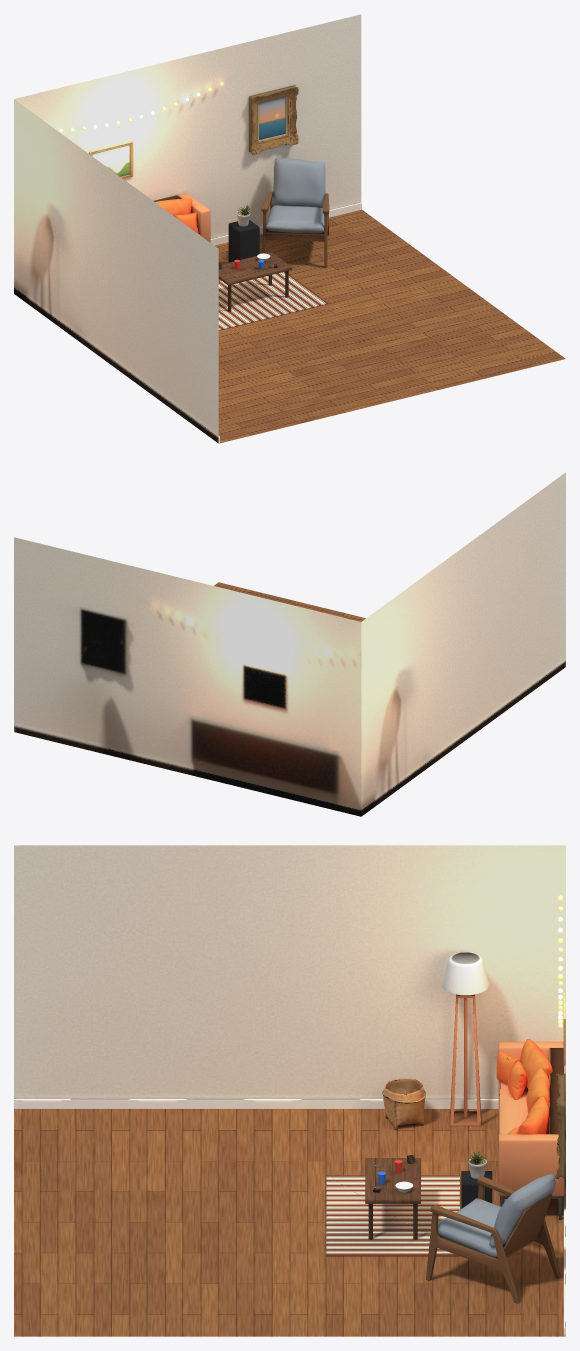
The model's file is escenario_pastillas.glb.
The picture shows the model from 3 angles, top to bottom: view 1: azimuth 30°, elevation 25°; view 2: azimuth 150°, elevation 25°; view 3: azimuth 270°, elevation 25°; orthographic projection. The views are drawn at different scales.
Visible parts, largest first — view 1: Pared_fondo, Piso, Pieza_sillon, Alfombra, Mesa_tope, Mueble_CornerLight, Bocina; view 2: Pared_fondo, Piso; view 3: Pared_fondo, Piso, Mueble_CornerLight, Pieza_sillon, Alfombra, Bocina, Mesa_tope.
Part boxes in pixels (left/top/right/bottom): Pared_fondo: left=14, top=14, right=361, bottom=443; Piso: left=215, top=209, right=565, bottom=443; Pieza_sillon: left=261, top=158, right=329, bottom=267; Alfombra: left=218, top=271, right=328, bottom=330; Mesa_tope: left=89, top=85, right=298, bottom=285; Mueble_CornerLight: left=154, top=193, right=250, bottom=242; Bocina: left=210, top=202, right=361, bottom=443; Pared_fondo: left=14, top=472, right=565, bottom=816; Piso: left=214, top=582, right=365, bottom=621; Pared_fondo: left=14, top=845, right=565, bottom=1129; Piso: left=14, top=1109, right=563, bottom=1336; Mueble_CornerLight: left=442, top=952, right=563, bottom=1219; Pieza_sillon: left=426, top=1173, right=560, bottom=1303; Alfombra: left=326, top=1175, right=459, bottom=1256; Bocina: left=14, top=1099, right=565, bottom=1336; Mesa_tope: left=365, top=990, right=565, bottom=1203.
Bounding box in the file's own units: 4.85 × 2.6 × 4.95.
19 materials, 15 textured.
